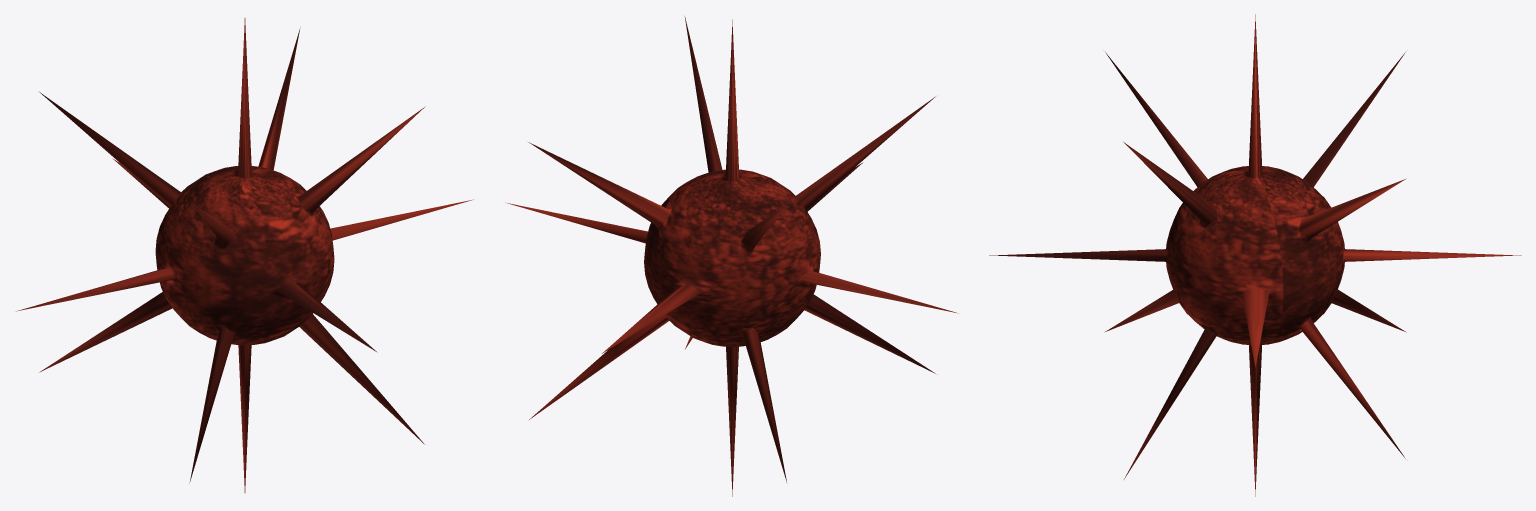
Rendered from enemy_ver2.fbx.
3 renders of one model, left to right at view 1: azimuth 30°, elevation 25°; view 2: azimuth 150°, elevation 25°; view 3: azimuth 270°, elevation 25°, orthographic.
Visible parts, largest first — view 1: pSphere1; view 2: pSphere1; view 3: pSphere1.
Boxes of the visible parts, <box> form: pSphere1: <box>16,18,473,492</box>; pSphere1: <box>505,16,957,496</box>; pSphere1: <box>989,14,1521,496</box>.
Size of the model in its own units: 25.66 by 25.66 by 25.66.
